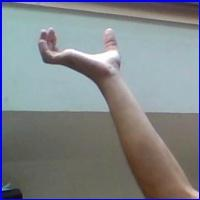space: (32, 22, 129, 82)
